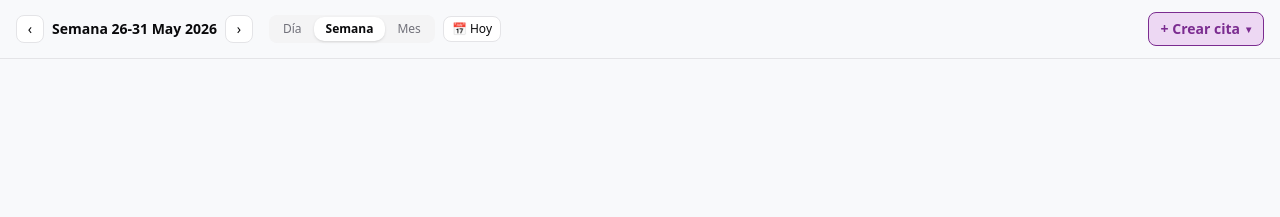
Scenario: AgendaToolbar › clicking Crear cita opens dropdown
Click the button with test id "agenda-cta-crear-cita" at point(1206, 29), box top-left (1148, 12), bottom-right (1264, 46)
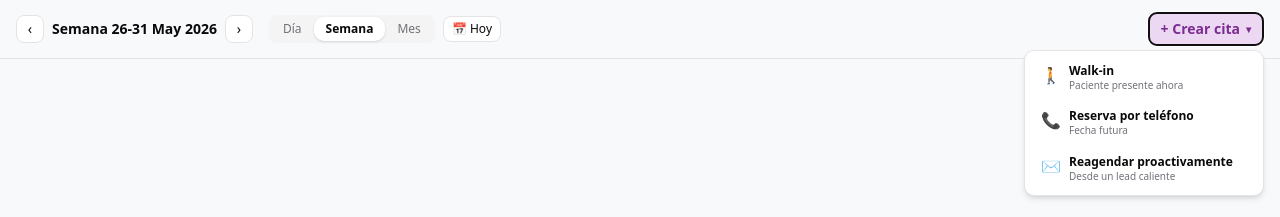
Result: the menu with test id "agenda-cta-dropdown" is shown at top-left (1024, 50), bottom-right (1264, 196)
